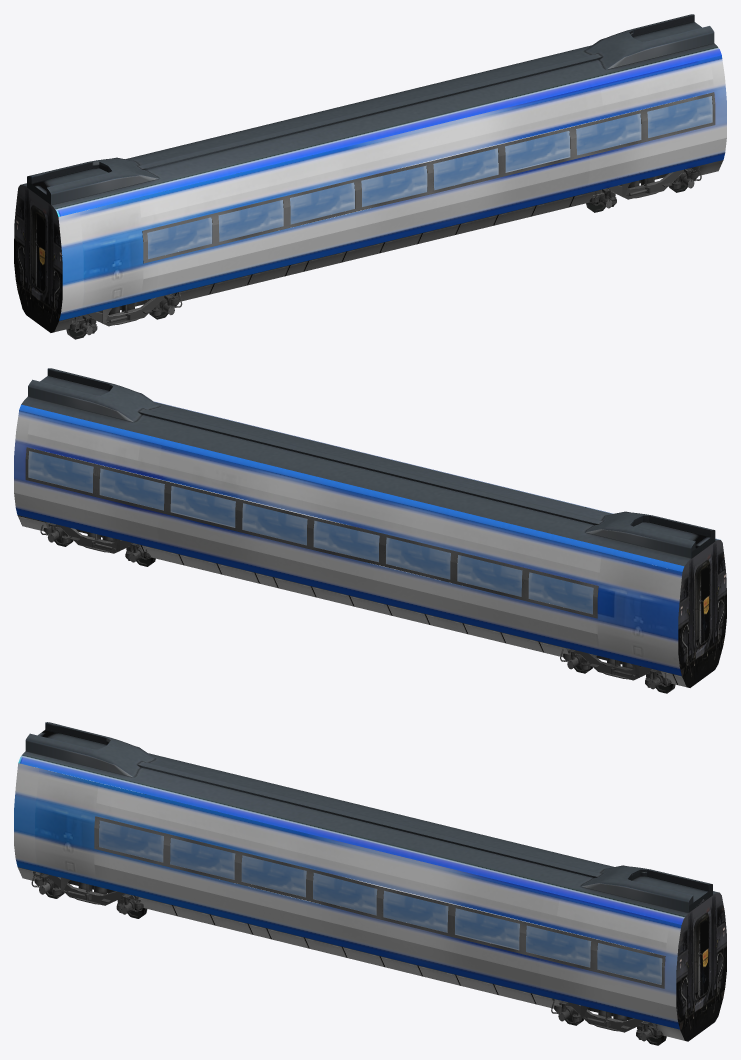
The model's file is ktx02.gltf.
3 renders of one model, top to bottom at view 1: azimuth 30°, elevation 25°; view 2: azimuth 150°, elevation 25°; view 3: azimuth 330°, elevation 25°, orthographic.
Visible parts, largest first — view 1: tr02, trEtc, window_A; view 2: tr02, trEtc, window_A; view 3: tr02, trEtc, window_A.
Boxes of the visible parts, x1,y1,x2,y2 form: tr02: (20,14,726,320); trEtc: (14,92,723,339); window_A: (118,96,712,259); tr02: (14,368,720,677); trEtc: (17,447,726,693); window_A: (28,451,623,614); tr02: (14,722,718,1029); trEtc: (17,794,726,1045); window_A: (99,820,662,984).
Size of the model in its own units: 289 by 64.29 by 38.52.
Materials: 3 (3 with a texture image).
